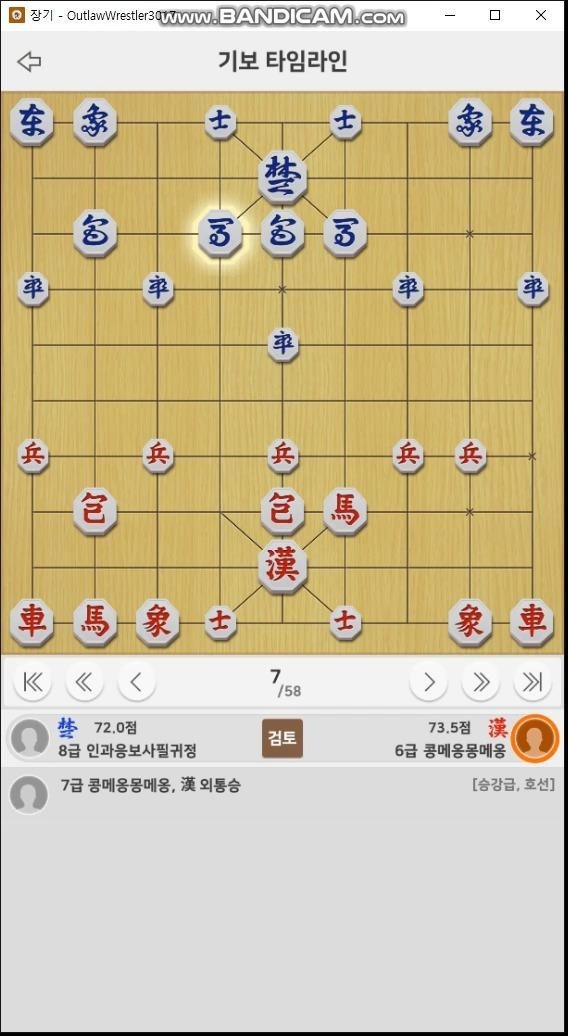cha_green: (12, 99, 54, 145), (512, 100, 553, 146)
cha_red: (9, 600, 53, 644), (509, 602, 554, 645)
jol_green: (392, 270, 426, 305), (516, 272, 551, 306), (266, 329, 300, 363), (143, 270, 174, 307), (19, 272, 49, 307)
jol_red: (144, 439, 176, 476), (393, 438, 424, 474), (458, 439, 488, 476), (269, 439, 299, 475), (19, 439, 49, 474)
ma_green: (198, 211, 243, 256), (324, 212, 366, 257)
ma_red: (71, 600, 116, 645), (325, 486, 366, 534)
po_green: (75, 209, 118, 256), (262, 212, 305, 255)
po_red: (70, 486, 118, 533), (262, 490, 304, 535)
sa_green: (203, 104, 238, 137), (330, 104, 362, 139)
sa_red: (330, 605, 362, 643), (205, 605, 236, 642)
sang_green: (75, 97, 117, 144), (450, 97, 492, 143)
sang_red: (447, 598, 494, 641), (137, 601, 181, 643)
wang_green: (259, 149, 308, 202)
wang_red: (257, 542, 308, 589)
